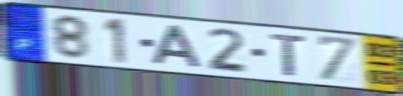1: (101, 17, 129, 66)
2: (207, 27, 250, 75)
7: (316, 34, 360, 83)
8: (48, 14, 93, 61)
A: (151, 24, 205, 70)
T: (269, 32, 309, 79)
